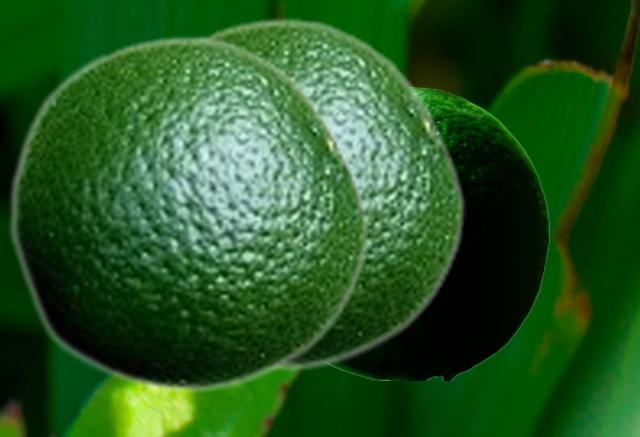calamansi: (7, 34, 370, 394), (194, 16, 466, 372), (331, 84, 548, 379)
